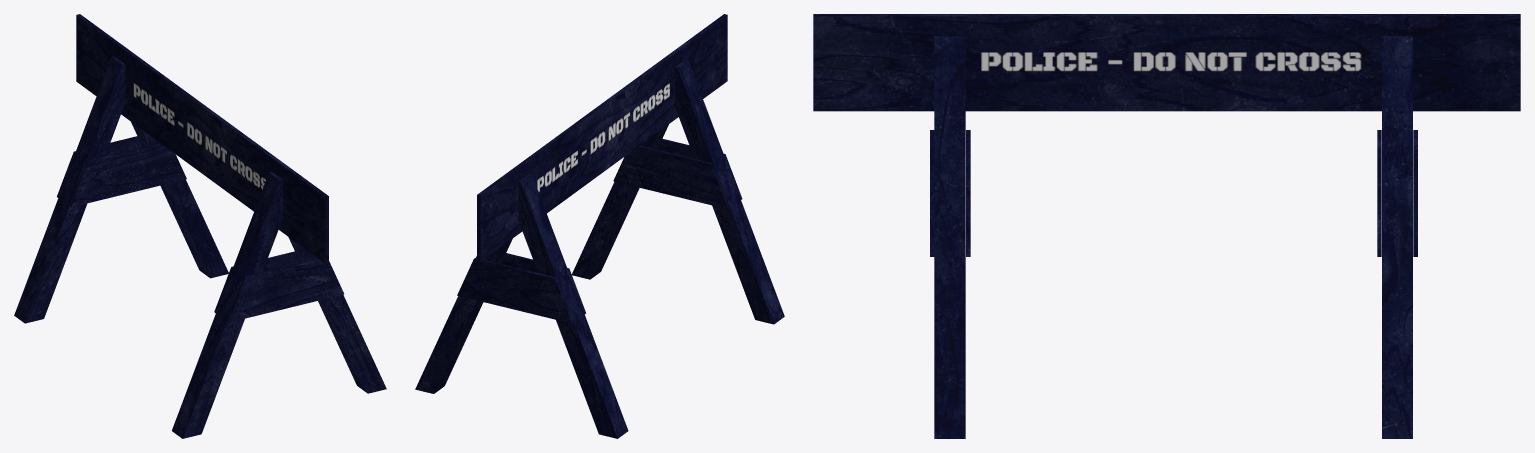
Rendered from barrier.glb.
The picture shows the model from 3 angles, left to right: view 1: azimuth 30°, elevation 25°; view 2: azimuth 150°, elevation 25°; view 3: azimuth 270°, elevation 25°; orthographic projection. The views are drawn at different scales.
Visible parts, largest first — view 1: WoodenBarrier; view 2: WoodenBarrier; view 3: WoodenBarrier.
Part boxes in pixels (x1,y1,x2,y2): WoodenBarrier: (14, 14, 386, 438); WoodenBarrier: (415, 14, 784, 438); WoodenBarrier: (813, 14, 1520, 438).
Bounding box in the file's own units: 1.73 × 2.01 × 3.65.
Materials: 1 (1 with a texture image).
